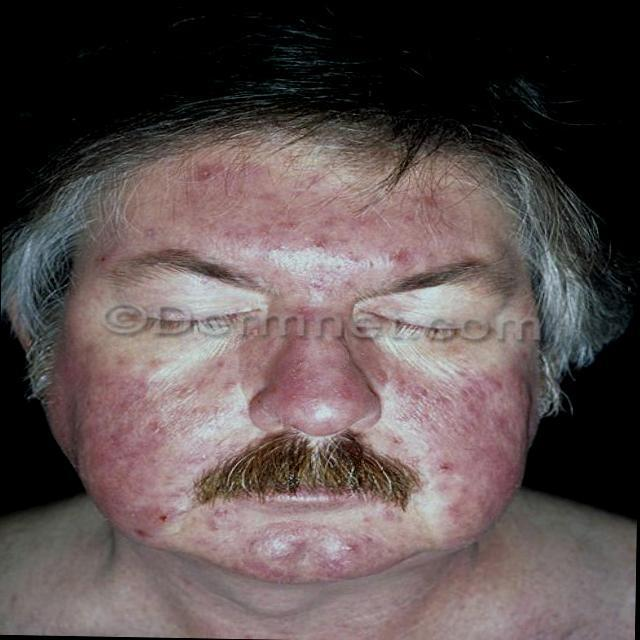skinredness: (58, 175, 503, 547)
